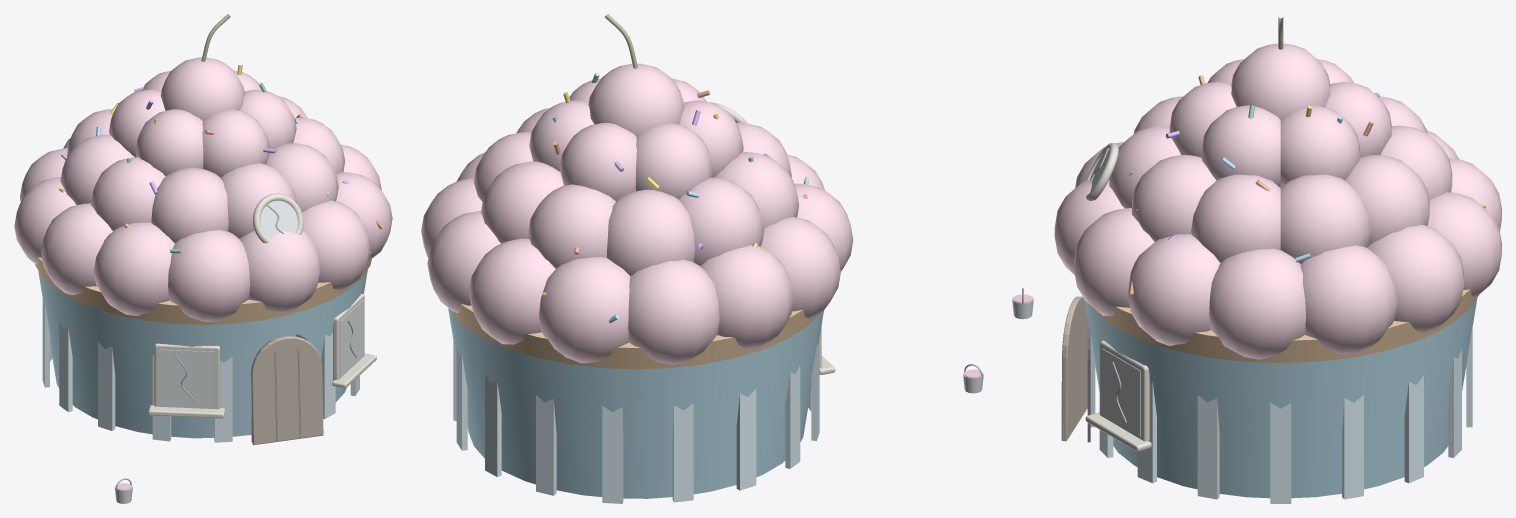
Rendered from building_sweets_L04.glb.
3 views of the same model, side by side, from view 1: azimuth 30°, elevation 25°; view 2: azimuth 150°, elevation 25°; view 3: azimuth 270°, elevation 25° (orthographic). The views are drawn at different scales.
Visible parts, largest first — view 1: Body; view 2: Body; view 3: Body.
Part boxes in pixels (left/top/right/bottom): Body: left=14, top=14, right=392, bottom=445; Body: left=421, top=14, right=853, bottom=503; Body: left=1054, top=17, right=1501, bottom=503.
Size of the model in its own units: 16.33 by 15.5 by 16.15.
